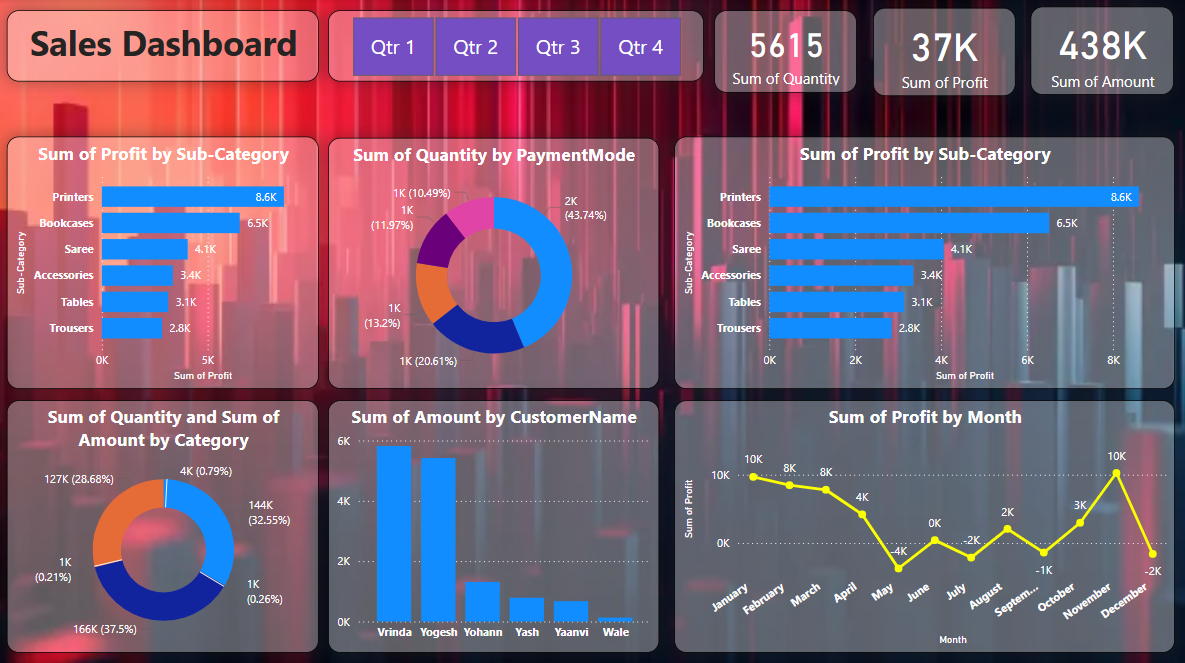

The page's visual inventory and layout, read from the dashboard file:
{"tool":"powerbi","page":{"name":"Page 1","canvas":[1280,720],"ordinal":0},"visuals":[{"type":"textbox","box":[9.4,12.1,336.3,76.7],"z":0},{"type":"lineChart","fields":{"Category":["Orders.Order Date.Variation.Date Hierarchy.Month"],"Y":["Details.Profit"]},"box":[727.7,431.8,539.4,271.7],"z":1000},{"type":"barChart","fields":{"Y":["Details.Profit"],"Category":["Details.Sub-Category"]},"box":[727.7,148,539.4,271.7],"z":2000},{"type":"donutChart","fields":{"Y":["Details.Quantity","Details.Amount"],"Category":["Details.Category"]},"box":[9.4,431.8,336.3,271.7],"z":3000},{"type":"donutChart","fields":{"Y":["Details.Quantity"],"Category":["Details.PaymentMode"]},"box":[355.1,149.3,356.5,270.4],"z":4000},{"type":"card","fields":{"Values":["Details.Amount"]},"box":[1112.4,8.1,154.7,95.5],"z":5000},{"type":"card","fields":{"Values":["Details.Profit"]},"box":[942.9,9.4,153.3,95.5],"z":6000},{"type":"card","fields":{"Values":["Details.Quantity"]},"box":[770.7,12.1,153.3,88.8],"z":7000},{"type":"barChart","fields":{"Y":["Details.Profit"],"Category":["Details.Sub-Category"]},"box":[9.4,148,336.3,271.7],"z":8000},{"type":"lineStackedColumnComboChart","fields":{"Category":["Orders.CustomerName"],"Y":["Details.Amount"]},"box":[355.1,431.8,356.5,271.7],"z":9000},{"type":"slicer","fields":{"Values":["Orders.Order Date.Variation.Date Hierarchy.Quarter"]},"box":[355.1,12.1,404.9,76.7],"z":10000}]}

Visuals, with their boxes in screenshot pixels (x1, y1, x2, y2), scaled from the page's 1280x720 canvas onto the 1185x663 screenshot:
textbox: 9/11/320/82
lineChart - Orders.Order Date.Variation.Date Hierarchy.Month x Details.Profit: 674/398/1173/648
barChart - Details.Profit x Details.Sub-Category: 674/136/1173/386
donutChart - Details.Quantity x Details.Amount: 9/398/320/648
donutChart - Details.Quantity x Details.PaymentMode: 329/137/659/386
card - Details.Amount: 1030/7/1173/95
card - Details.Profit: 873/9/1015/97
card - Details.Quantity: 713/11/855/93
barChart - Details.Profit x Details.Sub-Category: 9/136/320/386
lineStackedColumnComboChart - Orders.CustomerName x Details.Amount: 329/398/659/648
slicer - Orders.Order Date.Variation.Date Hierarchy.Quarter: 329/11/704/82
